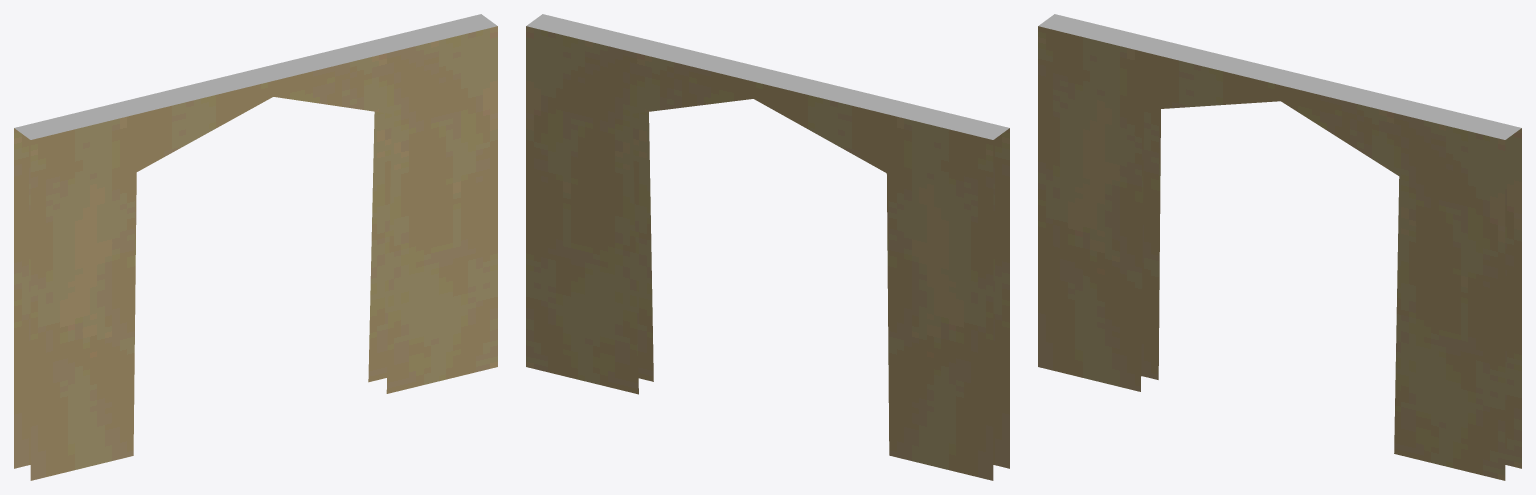
File: W_I3_xx_TürGroß [Beige]_297.glb
3 renders of one model, left to right at view 1: azimuth 30°, elevation 25°; view 2: azimuth 150°, elevation 25°; view 3: azimuth 330°, elevation 25°, orthographic.
Visible parts, largest first — view 1: pPlaneShape2, pPlaneShape3, pPlaneShape1; view 2: pPlaneShape3, pPlaneShape2, pPlaneShape1; view 3: pPlaneShape2, pPlaneShape3, pPlaneShape1.
Part boxes in pixels (<box>): pPlaneShape2: <box>30,26,497,480</box>; pPlaneShape3: <box>14,111,391,468</box>; pPlaneShape1: <box>14,14,497,139</box>; pPlaneShape3: <box>526,26,993,480</box>; pPlaneShape2: <box>632,112,1009,468</box>; pPlaneShape1: <box>526,14,1009,139</box>; pPlaneShape2: <box>1038,26,1505,480</box>; pPlaneShape3: <box>1141,109,1521,468</box>; pPlaneShape1: <box>1038,14,1521,139</box>.
Bounding box in the file's own units: 0.5 × 0.3486 × 0.0308.
3 materials, 2 textured.
